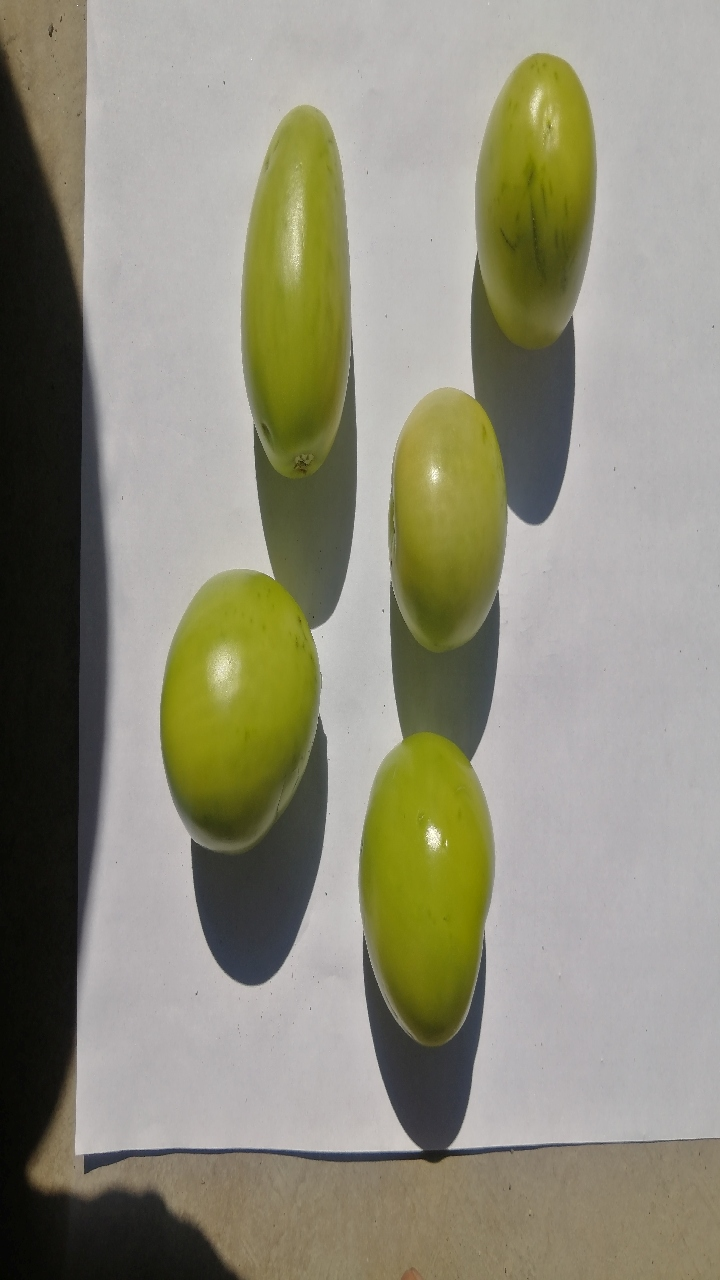tomateVerde: (131, 554, 335, 869), (208, 89, 371, 480), (334, 720, 523, 1054), (452, 39, 640, 362), (369, 375, 540, 683)
